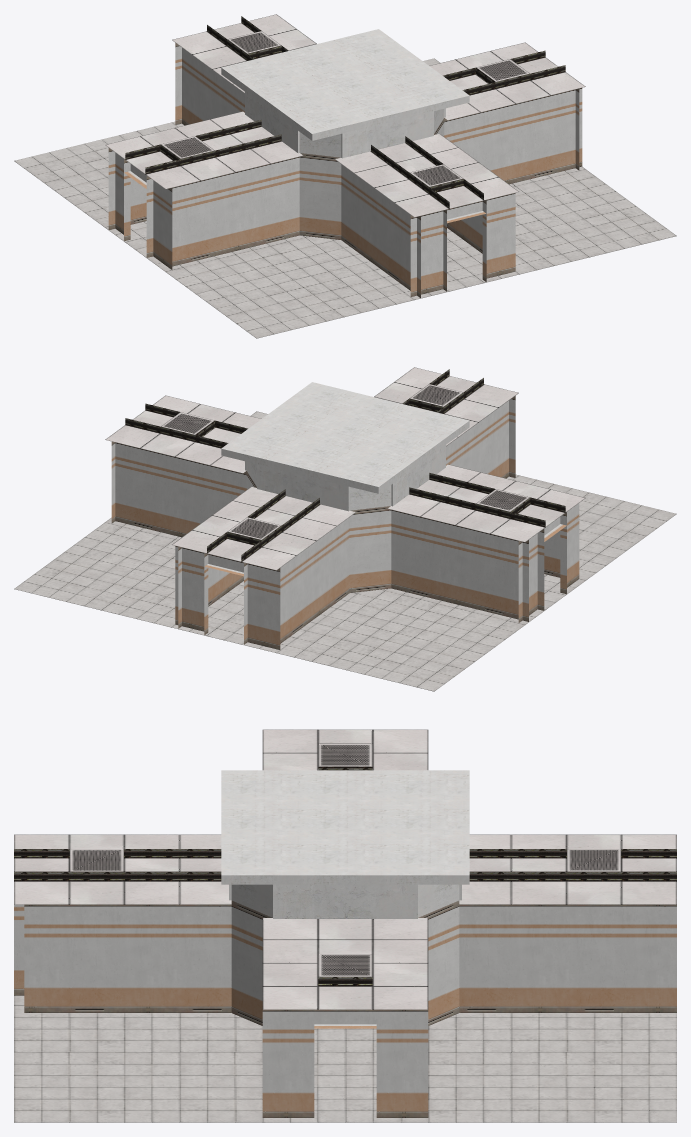
File: RZ_room4.gltf
3 views of the same model, one above another, from view 1: azimuth 30°, elevation 25°; view 2: azimuth 150°, elevation 25°; view 3: azimuth 270°, elevation 25° (orthographic). The views are drawn at different scales.
Parts seen in each view (by area): view 1: RZ_room4; view 2: RZ_room4; view 3: RZ_room4.
Boxes of the visible parts, left/top/right/bottom form: RZ_room4: left=14, top=14, right=676, bottom=338; RZ_room4: left=14, top=367, right=676, bottom=691; RZ_room4: left=14, top=729, right=676, bottom=1122.
Bounding box in the file's own units: 20.48 × 5.45 × 20.48.
Materials: 8 (8 with a texture image).
